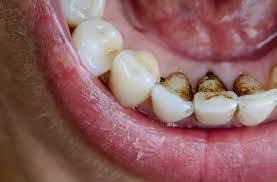Calculus: (150, 62, 198, 120), (192, 73, 238, 122), (231, 73, 272, 122)
